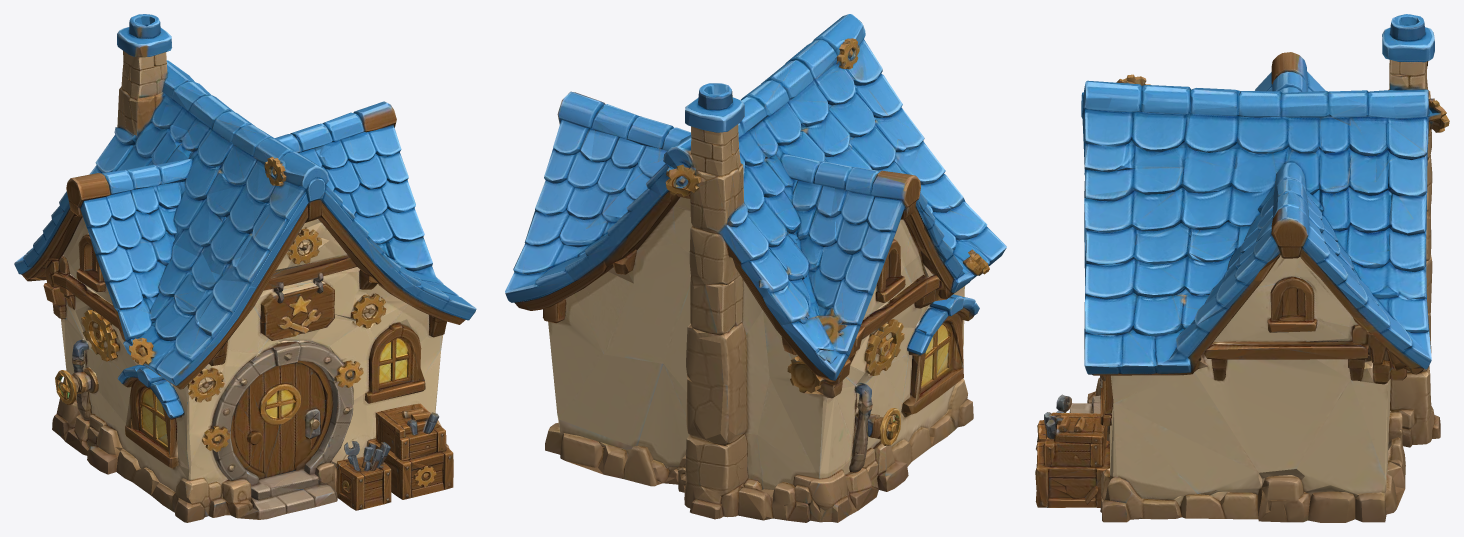
The model's file is place_workshop_mobile.glb.
3 views of the same model, side by side, from view 1: azimuth 30°, elevation 25°; view 2: azimuth 150°, elevation 25°; view 3: azimuth 270°, elevation 25° (orthographic). The views are drawn at different scales.
Bounding box in the file's own units: 1.7 × 1.9 × 1.73.
1 material, 1 textured.
